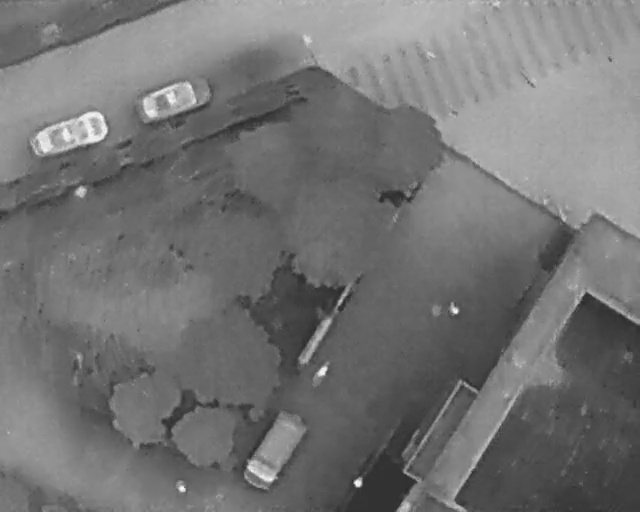Bicycle: (307, 359, 331, 387)
Car: (24, 107, 113, 161), (132, 72, 217, 126)
OtherVehicle: (237, 404, 314, 496)
Person: (450, 298, 459, 318), (353, 476, 363, 488)
